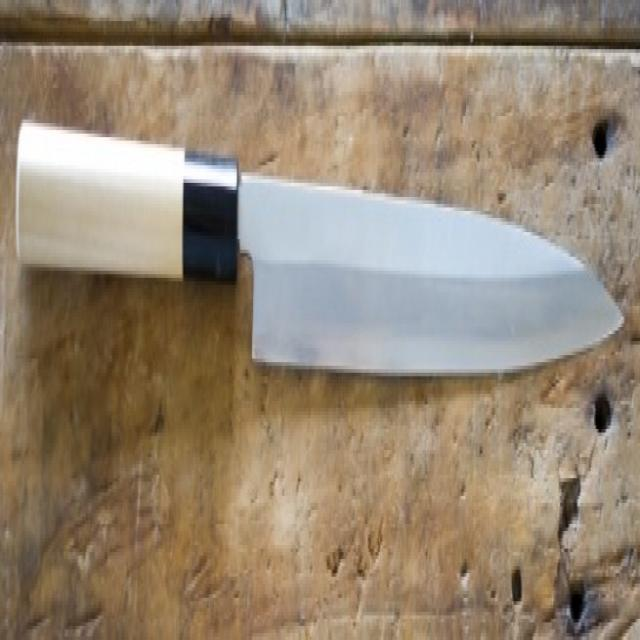Knife: (10, 88, 636, 448)
